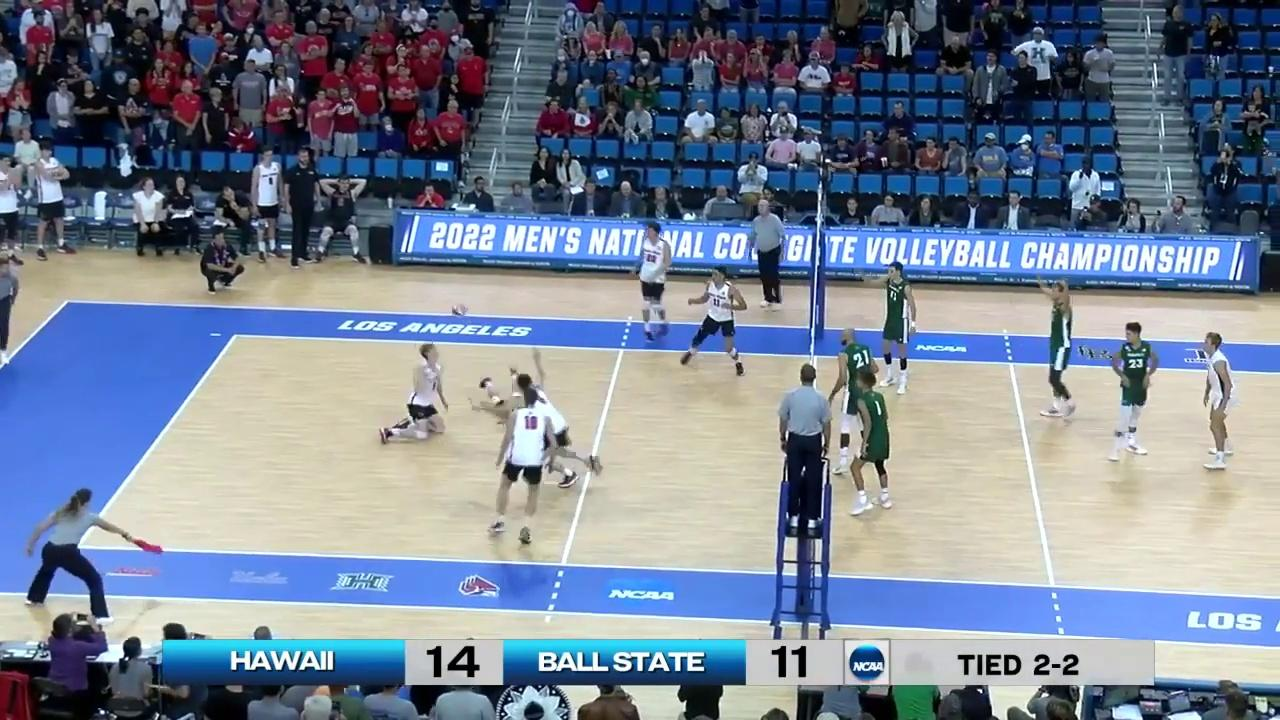player: (483, 380, 555, 549), (497, 368, 595, 490), (471, 366, 561, 455), (680, 266, 748, 375), (380, 343, 450, 442), (1111, 322, 1159, 464), (832, 325, 877, 472), (1036, 275, 1082, 417), (847, 367, 891, 514), (1200, 335, 1239, 471), (883, 263, 921, 392), (632, 224, 673, 341)
refree: (25, 483, 148, 624), (776, 359, 832, 530), (752, 186, 792, 312), (0, 254, 19, 369)
